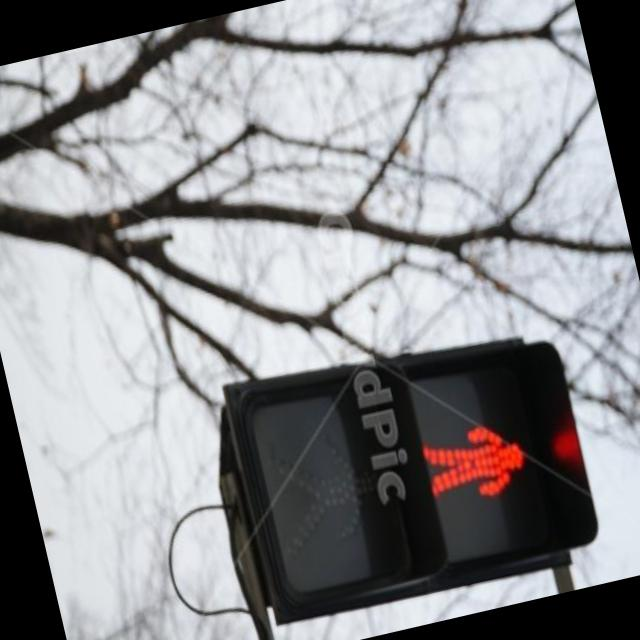red_light: (415, 406, 543, 520)
